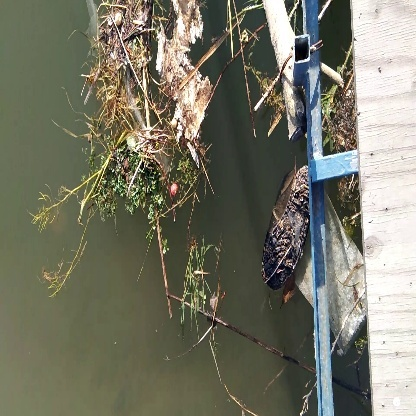plastic-garbage: (256, 163, 320, 287)
